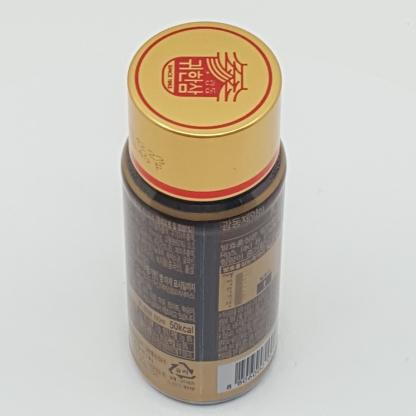-------100ml: (121, 20, 286, 405)
